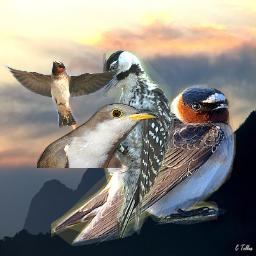Cuckoo: (37, 103, 159, 168)
Swallow: (51, 84, 236, 248), (1, 60, 123, 128)
Woodpecker: (103, 50, 174, 238)
